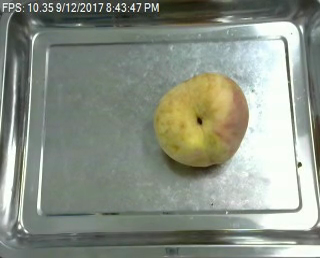Peach: (154, 71, 249, 168)
